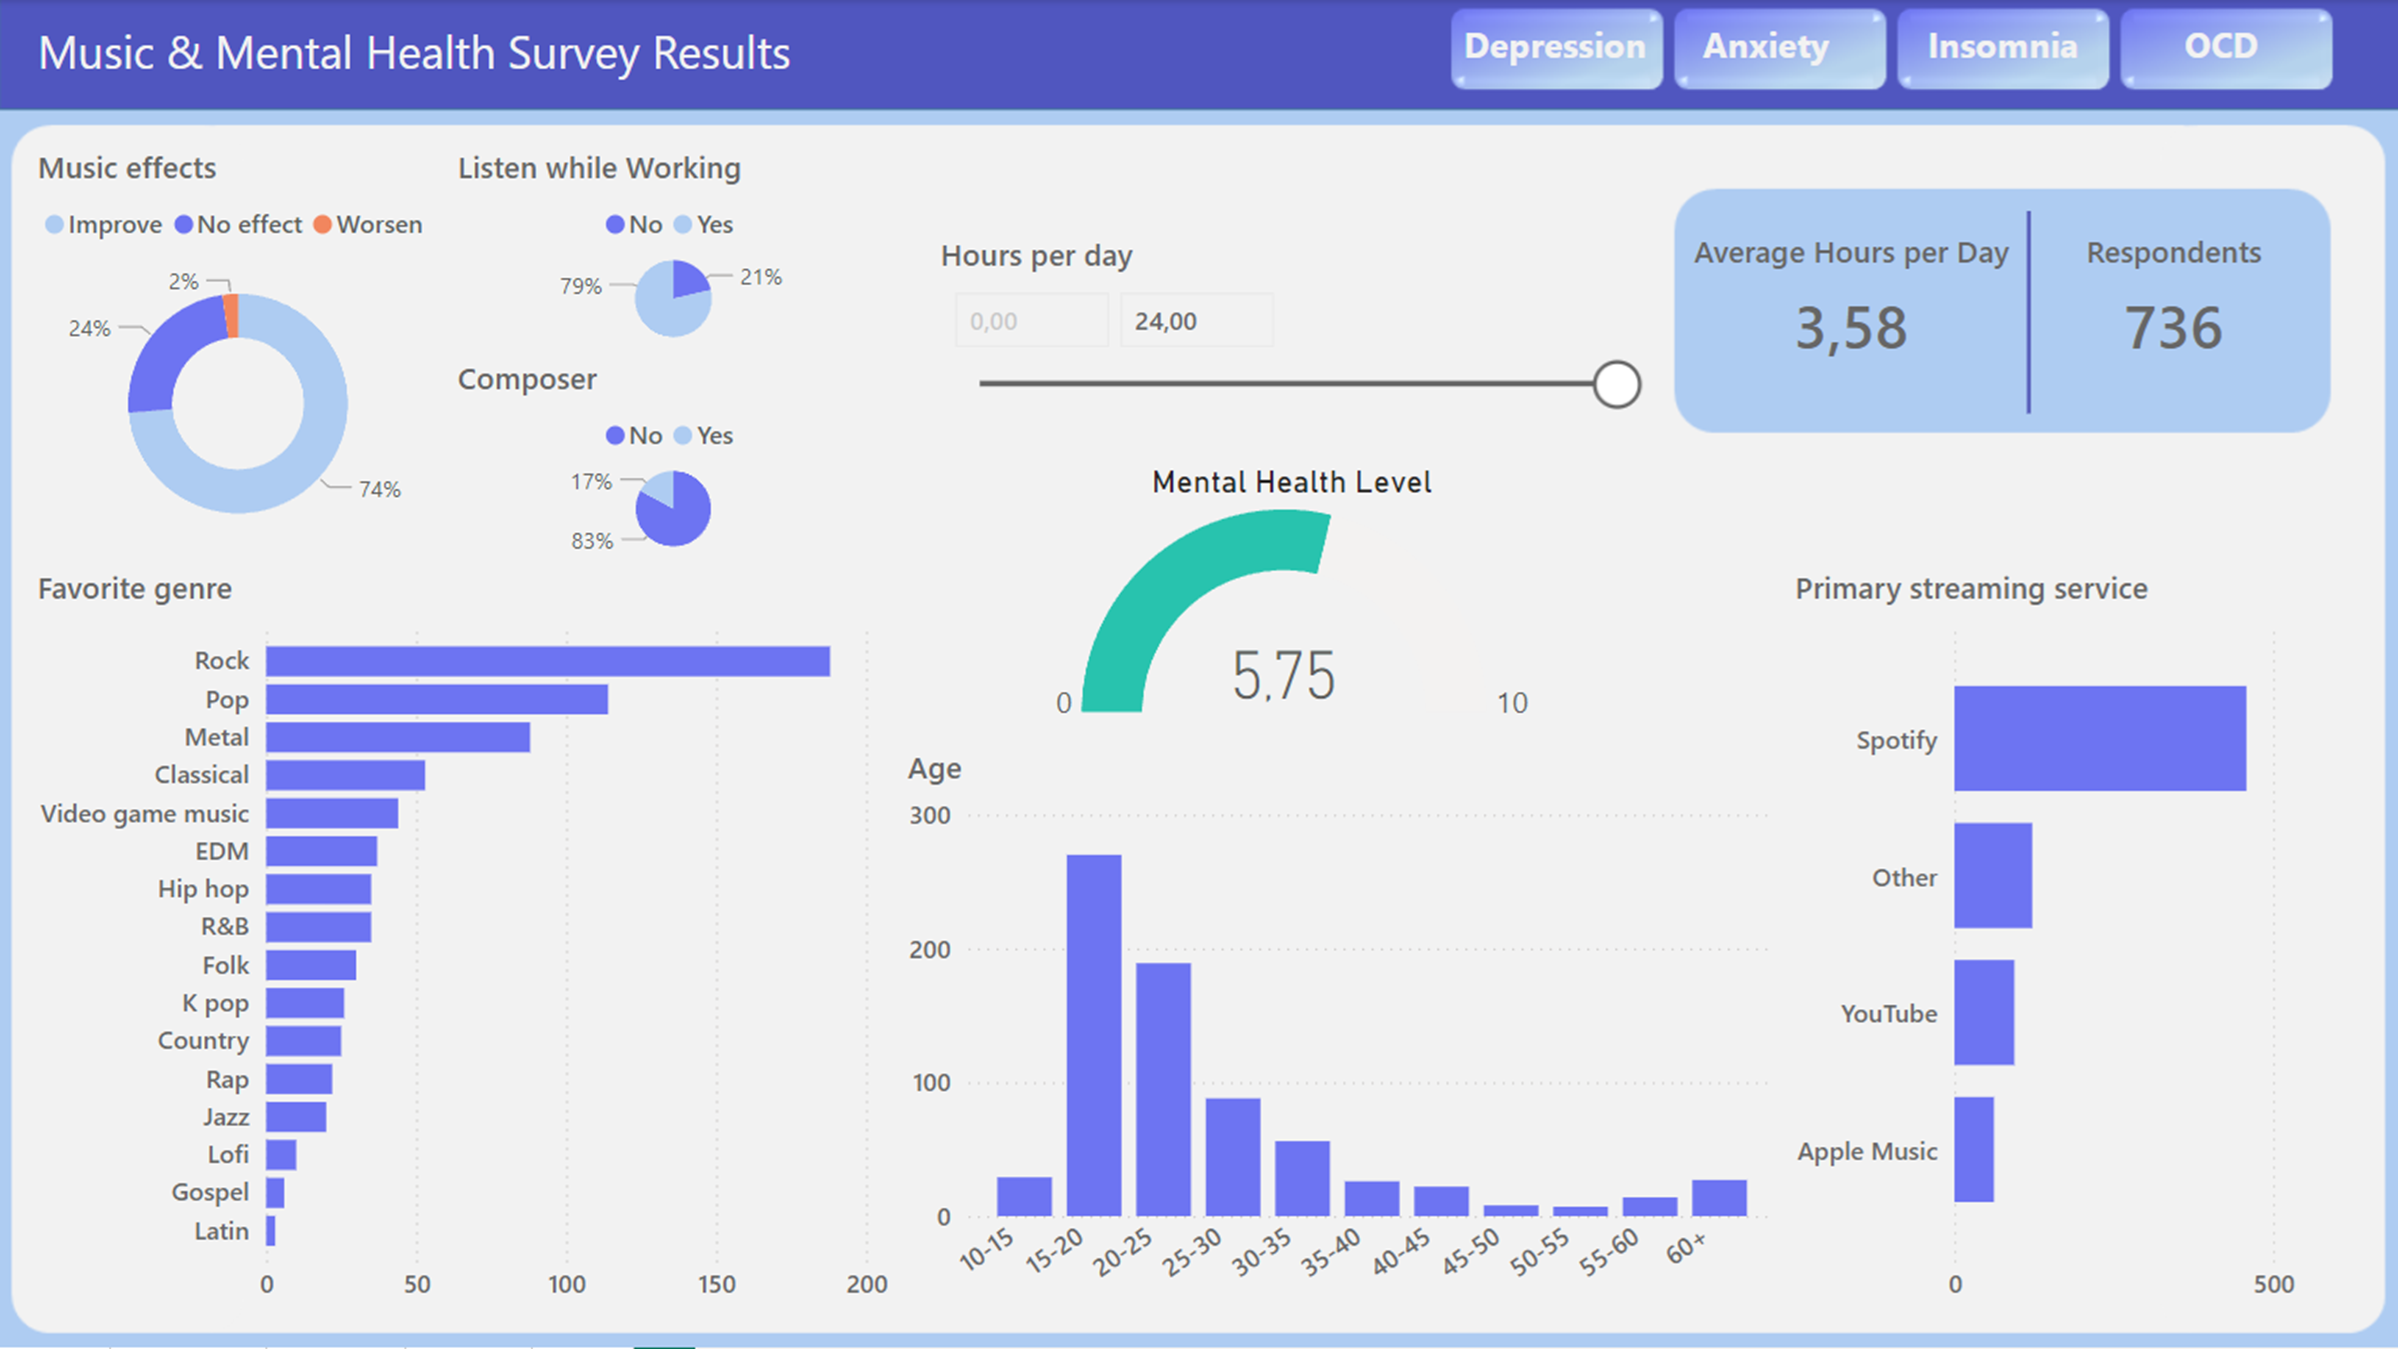

The dashboard page shown, as its layout file describes it:
{"tool":"powerbi","page":{"name":"Summary","canvas":[1280,720],"ordinal":0},"visuals":[{"type":"card","title":"Respondents","fields":{"Values":["Count(mxmh_survey_results.id)"]},"box":[1073.7,124.8,174.5,80.4],"z":0},{"type":"textbox","box":[15.9,7.4,431.6,48.7],"z":1000},{"type":"donutChart","title":"Music effects","fields":{"Category":["mxmh_survey_results.Music effects"],"Y":["Count(mxmh_survey_results.id)"]},"box":[16,80,224,224],"z":2000},{"type":"clusteredBarChart","title":"Favorite genre","fields":{"Category":["mxmh_survey_results.Fav genre"],"Y":["Count(mxmh_survey_results.id)"]},"box":[16,304,464,400],"z":3000},{"type":"card","title":"Average Hours per Day","fields":{"Values":["Avg(mxmh_survey_results.Hours per day)"]},"box":[896,124.8,185.1,80.4],"z":4000},{"type":"slicer","title":"Hours per day","fields":{"Values":["mxmh_survey_results.Hours per day"]},"box":[497.4,126.8,386.6,102],"z":5000},{"type":"columnChart","title":"Age","fields":{"Category":["mxmh_survey_results.Age (groups)"],"Y":["Count(mxmh_survey_results.id)"]},"box":[480,400,473,304],"z":6000},{"type":"pieChart","title":"Listen while Working","fields":{"Category":["mxmh_survey_results.While working"],"Y":["Count(mxmh_survey_results.id)"]},"box":[240.1,80.4,240.1,112.1],"z":7000},{"type":"pieChart","title":"Composer","fields":{"Category":["mxmh_survey_results.Composer"],"Y":["Count(mxmh_survey_results.id)"]},"box":[240.1,192.5,240.1,111.1],"z":8000},{"type":"textbox","box":[1123.4,7.4,124.8,40.2],"z":9000},{"type":"textbox","box":[1024,7.4,99.4,40.2],"z":10000},{"type":"textbox","box":[904.5,7.4,96.3,40.2],"z":11000},{"type":"textbox","box":[776.5,7.4,119.5,40.2],"z":12000},{"type":"gauge","title":"Mental Health Level ","fields":{"Y":["mxmh_survey_results.Mental Health"],"MinValue":["mxmh_survey_results.MIN"],"MaxValue":["mxmh_survey_results.MAX"]},"box":[554.3,248.6,271.9,143.9],"z":13000},{"type":"barChart","title":"Primary streaming service","fields":{"Category":["mxmh_survey_results.Primary streaming service"],"Y":["Count(mxmh_survey_results.id)"]},"box":[953,304,311,400],"z":14000},{"type":"shape","box":[1076.9,114.2,12.7,107.9],"z":15000},{"type":"shape","box":[780.7,7.4,111.1,40.2],"z":16000},{"type":"actionButton","box":[896,7.4,112.1,40.2],"z":17000},{"type":"actionButton","box":[1013.5,8.9,111.7,39.9],"z":18000},{"type":"actionButton","box":[1135.6,6.9,113,42.2],"z":19000}]}

Visuals, with their boxes in screenshot pixels (x1, y1, x2, y2), scaled from the page's 1280x720 canvas onto the 2398x1349 screenshot:
"Respondents" card: [2012,234,2338,384]
textbox: [30,14,838,105]
"Music effects" donutChart: [30,150,450,570]
"Favorite genre" clusteredBarChart: [30,570,899,1319]
"Average Hours per Day" card: [1679,234,2025,384]
"Hours per day" slicer: [932,238,1656,429]
"Age" columnChart: [899,749,1785,1319]
"Listen while Working" pieChart: [450,151,900,361]
"Composer" pieChart: [450,361,900,569]
textbox: [2105,14,2338,89]
textbox: [1918,14,2105,89]
textbox: [1695,14,1875,89]
textbox: [1455,14,1679,89]
"Mental Health Level " gauge: [1038,466,1548,735]
"Primary streaming service" barChart: [1785,570,2368,1319]
shape: [2018,214,2041,416]
shape: [1463,14,1671,89]
actionButton: [1679,14,1889,89]
actionButton: [1899,17,2108,91]
actionButton: [2127,13,2339,92]
